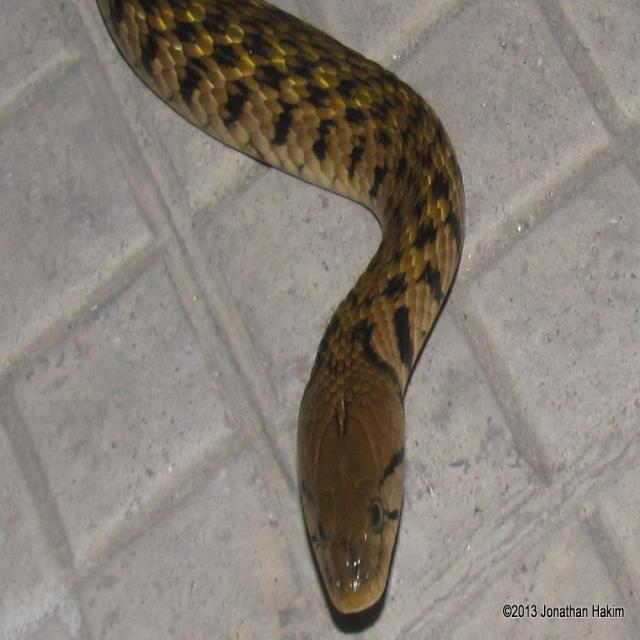Snake: (94, 0, 466, 617)
